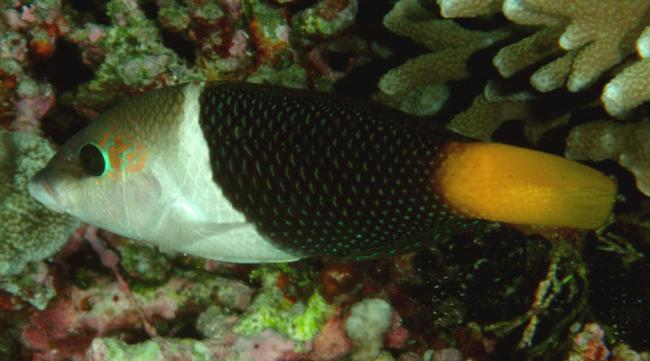fish: (27, 80, 617, 265)
